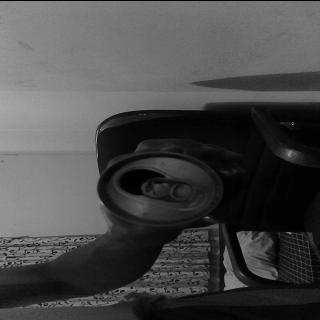alumunium_can: (92, 151, 220, 223)
